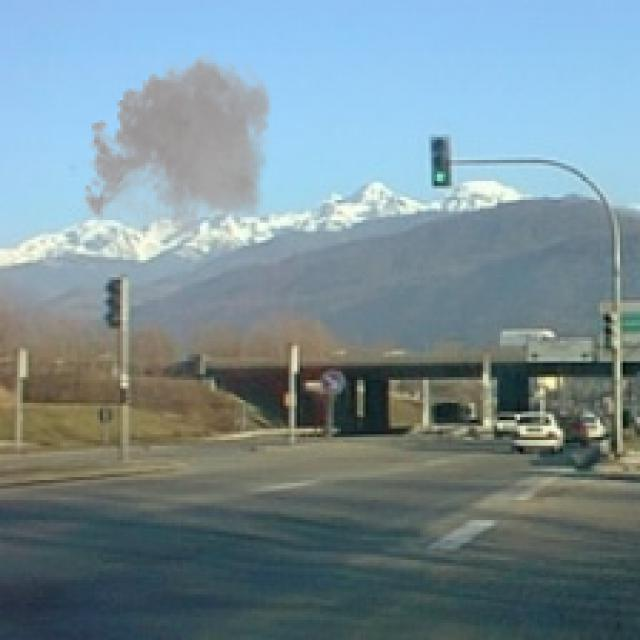Smoke: (77, 45, 280, 252)
